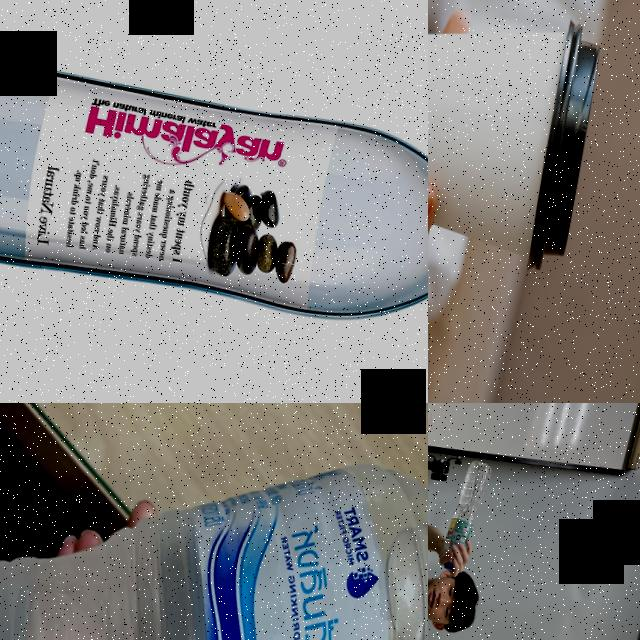bottle: (0, 49, 428, 358), (0, 403, 428, 640), (438, 456, 492, 576)
cup: (428, 0, 609, 270)
